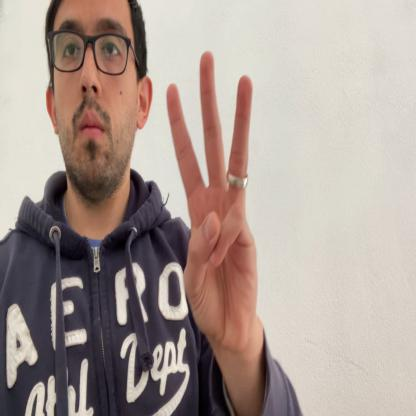W: (166, 50, 259, 358)
